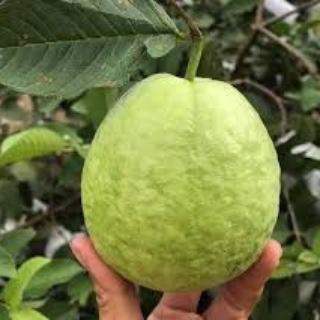oi: (79, 73, 295, 295)
